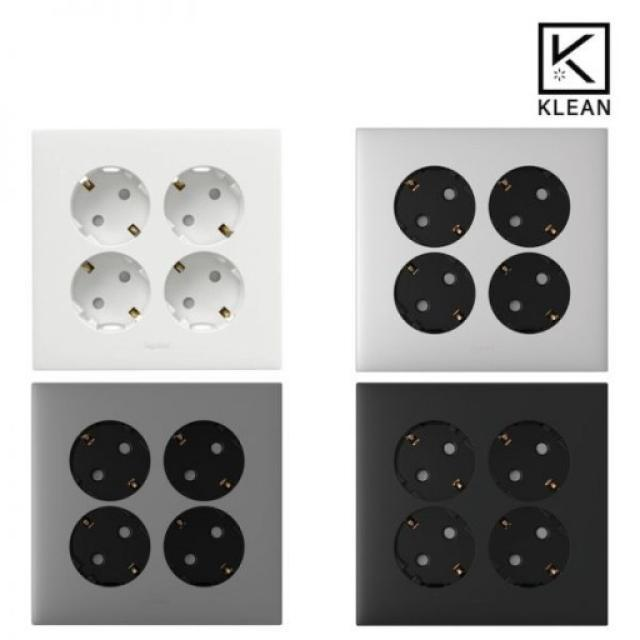typeb: (17, 382, 299, 638), (342, 377, 622, 628), (348, 120, 624, 372), (22, 122, 296, 374)
